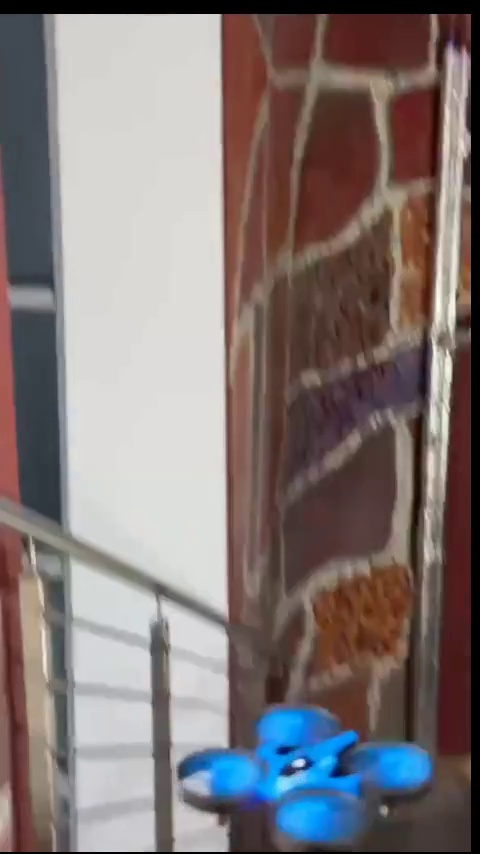drone: (182, 706, 444, 842)
